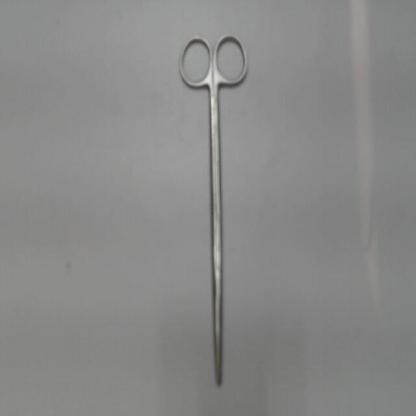9 Metzenbaum Scissors: (176, 31, 252, 392)
